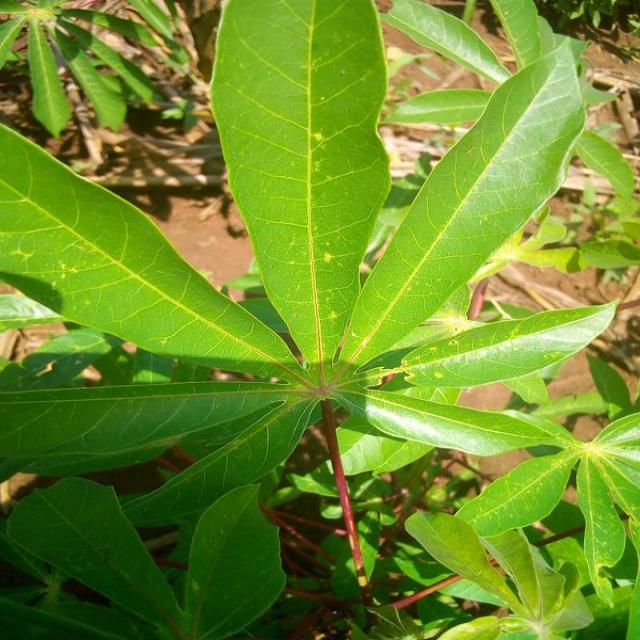cassava leaf: (1, 1, 628, 636), (334, 32, 588, 379), (0, 120, 307, 382), (208, 0, 392, 368)
